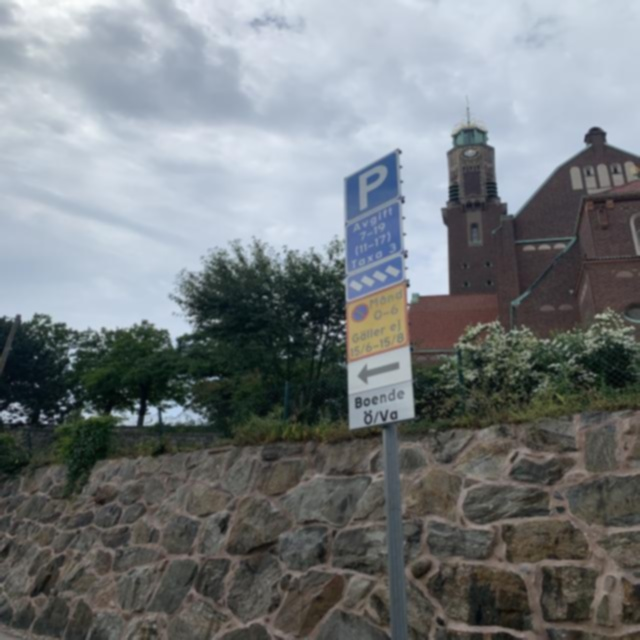P-skylt: (335, 145, 402, 226)
